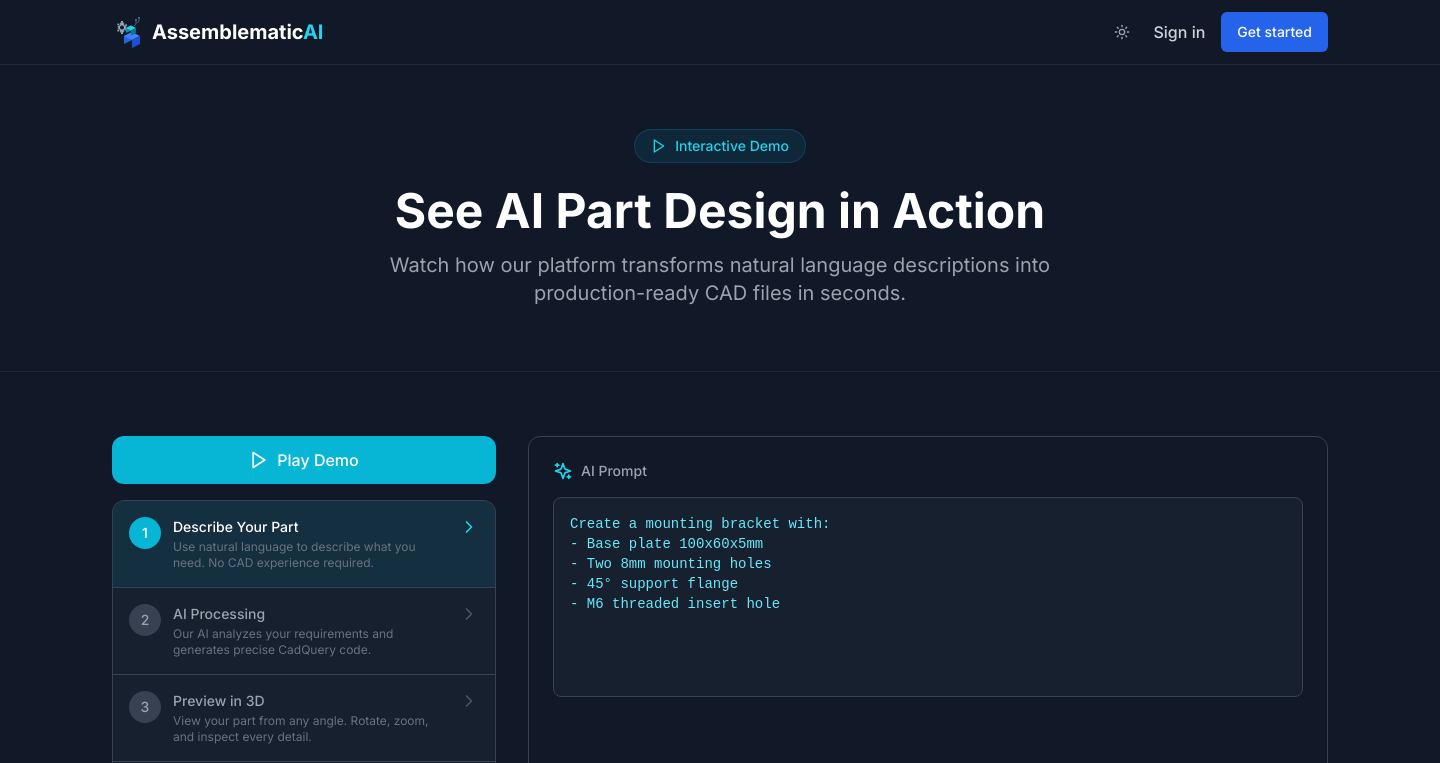
DemoPage › Play/Pause Functionality › stops auto-advancing when paused
This screenshot has width=1440, height=763.
# Start playing
Click the button "Play Demo": (304, 460) [112,436,496,484]
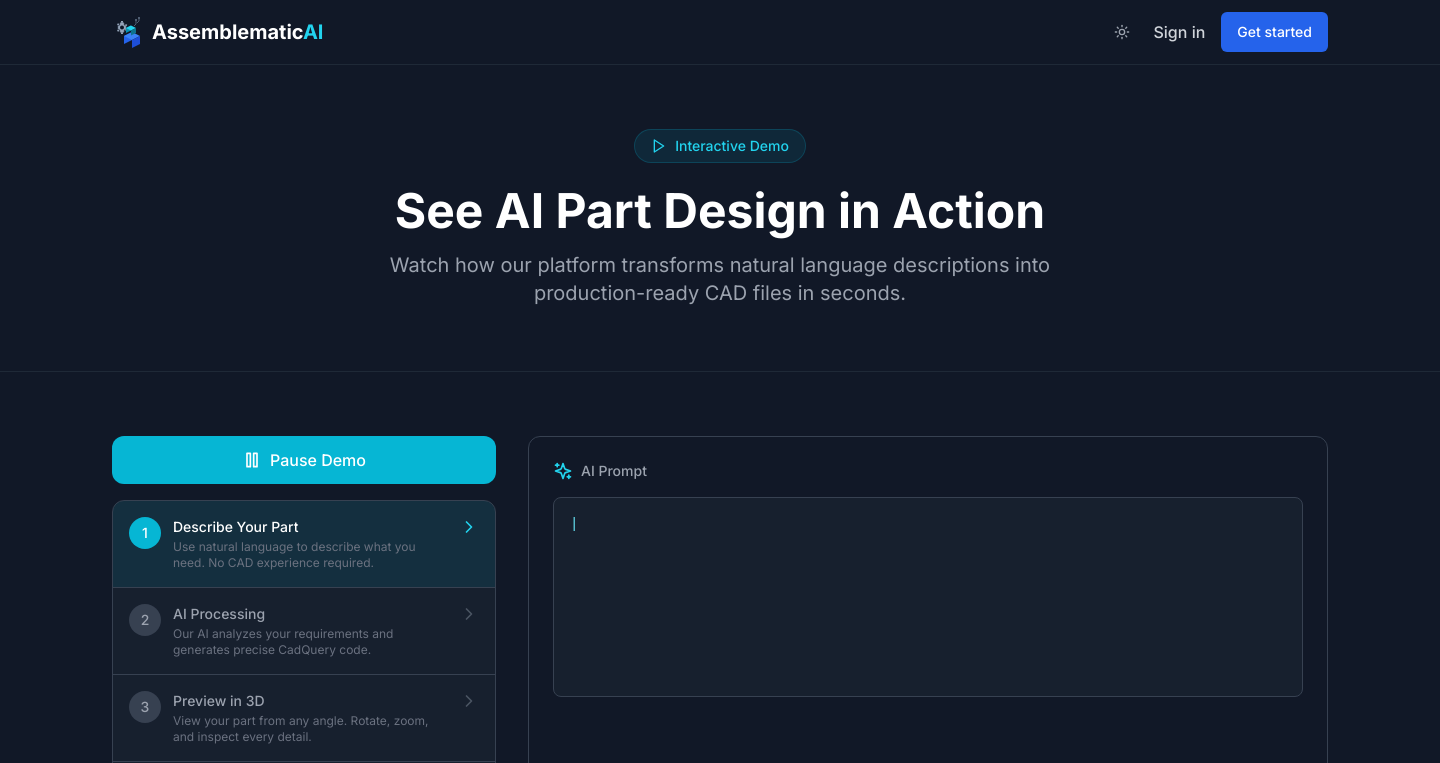
Click the button "Pause Demo": (304, 460) [112,436,496,484]
Wait 8000 ms
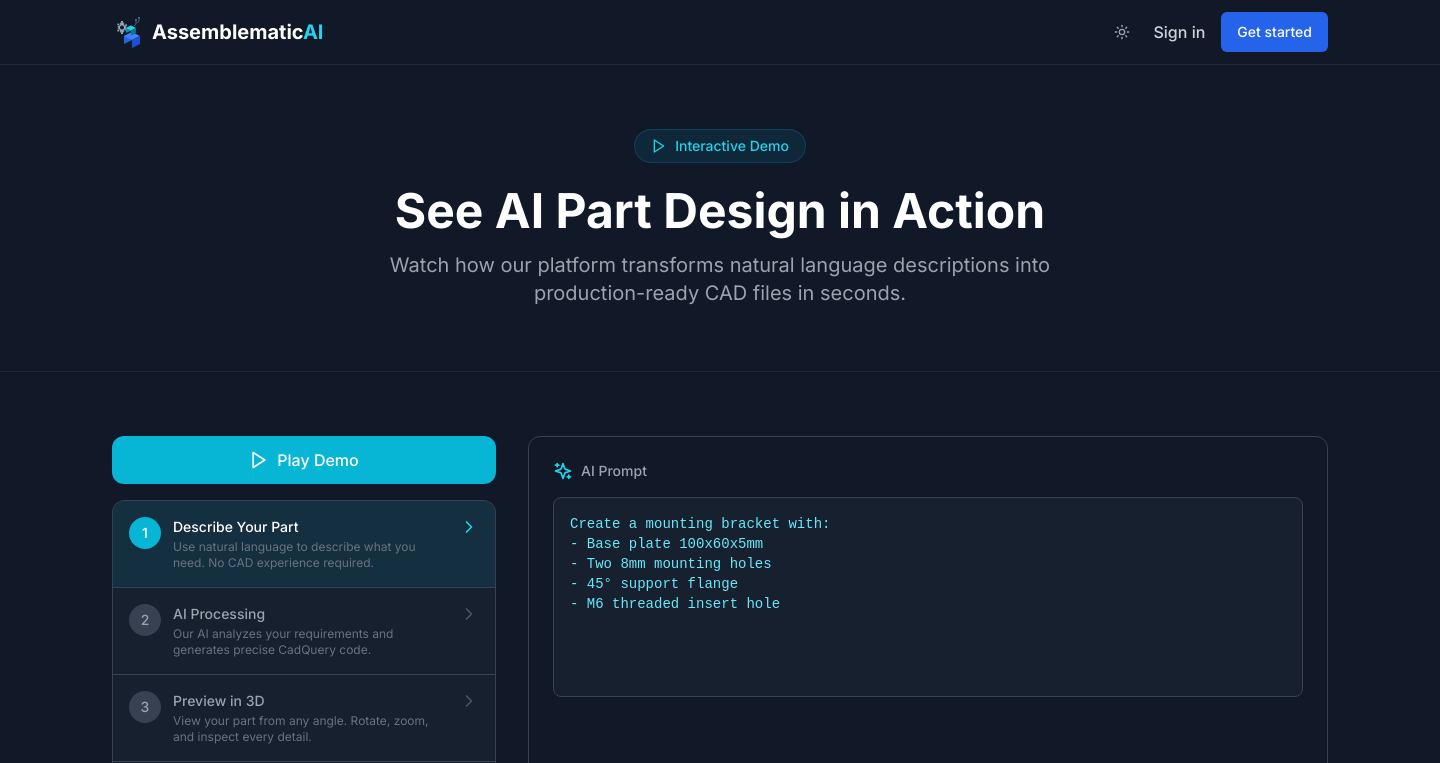
Check: the button "Play Demo" is shown, box [112,436,496,484]
